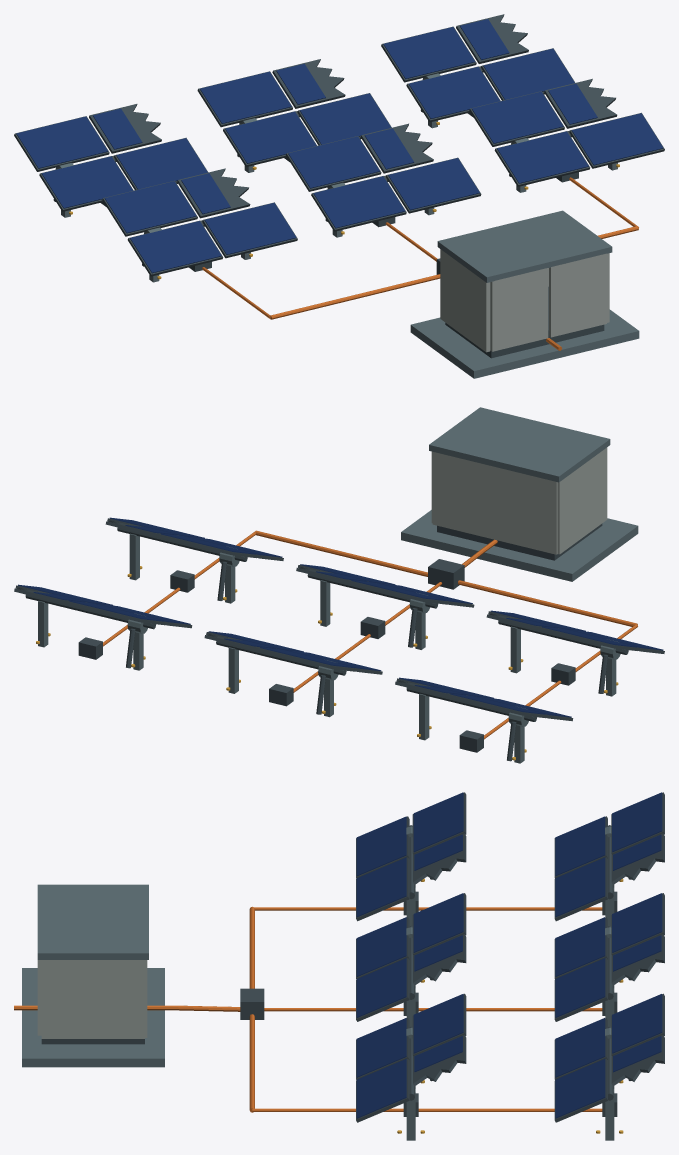
Rendered from solar_power_complex_d1.glb.
3 renders of one model, top to bottom at view 1: azimuth 30°, elevation 25°; view 2: azimuth 150°, elevation 25°; view 3: azimuth 270°, elevation 25°, orthographic. The views are drawn at different scales.
Visible parts, largest first — view 1: SOLAR_GAME_MESH; view 2: SOLAR_GAME_MESH; view 3: SOLAR_GAME_MESH.
Boxes of the visible parts, x1,y1,x2,y2 form: SOLAR_GAME_MESH: [14, 14, 664, 378]; SOLAR_GAME_MESH: [14, 407, 664, 763]; SOLAR_GAME_MESH: [14, 792, 664, 1140].
Size of the model in its own units: 16.79 by 2.86 by 16.39.
